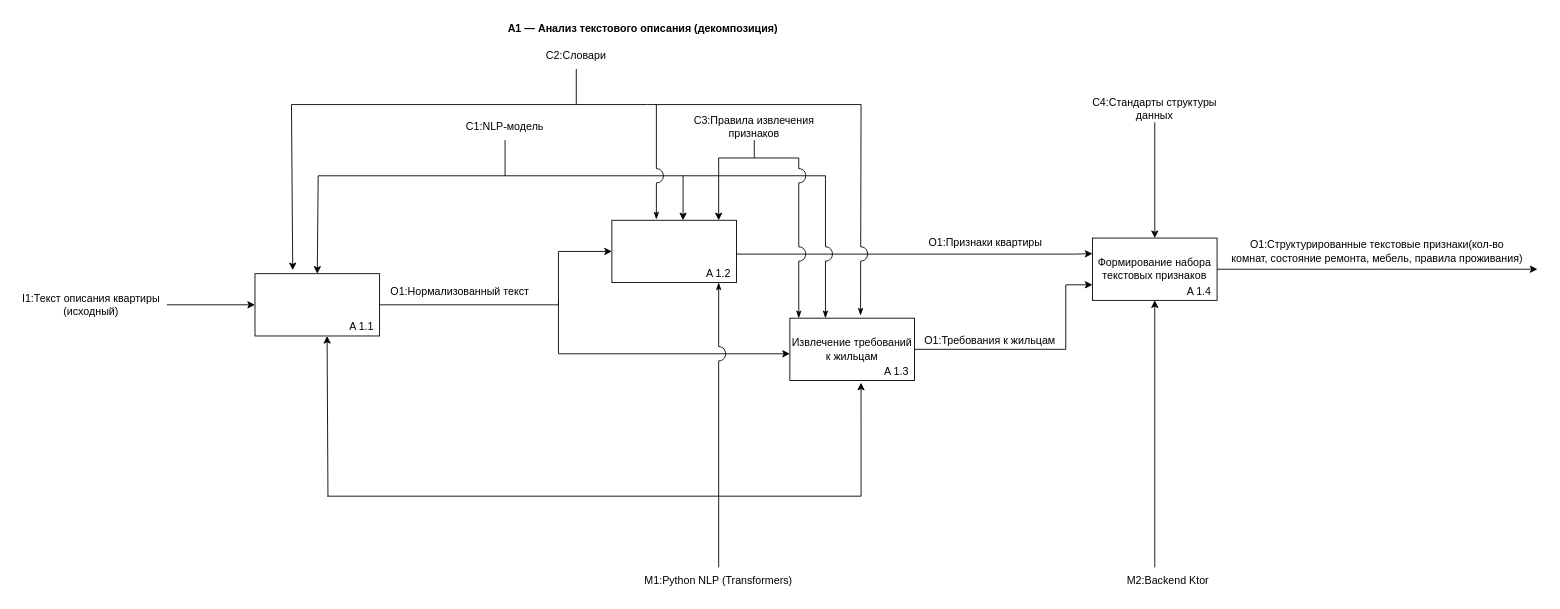
Some shapes in this 1560 by 609 pixel diagram are drawn without their labels. The shapes that lost their labels are listed below. From the top down, each one's box as (x1, y1, x2, y2) in pixels, then its label:
(611, 219, 736, 283): Извлечение характеристик квартиры (NLP)
(254, 273, 380, 336): Проверка и нормализация текста
